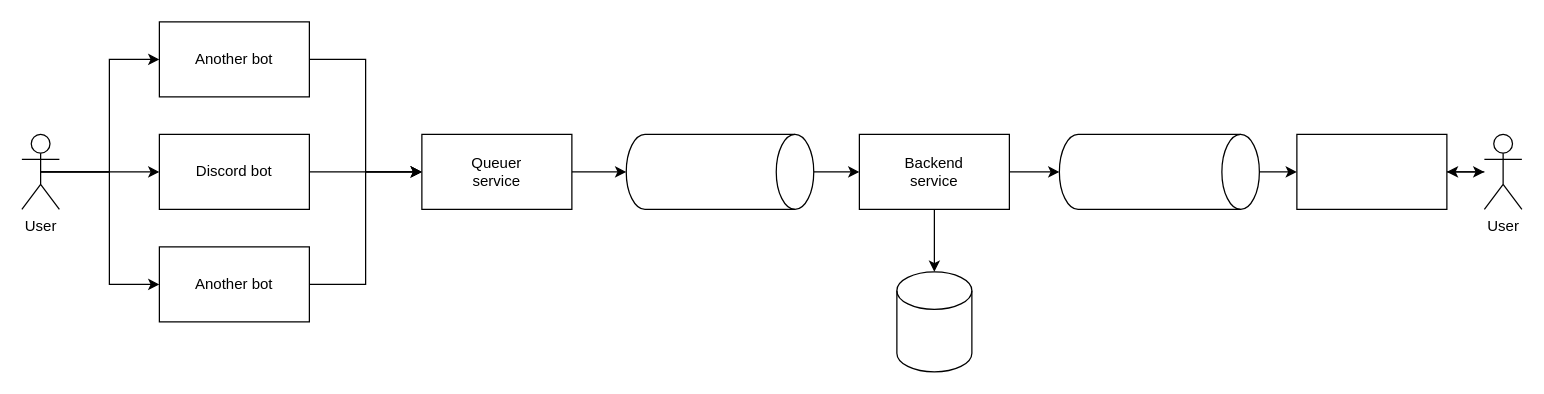
This 1544x394 diagram has some shape labels left out. Each missing label, with the centre of its shape:
Frontend service: point 1371,171
Risk points message queue: point 719,171
Risk points stream processor: point 1158,171
Risks SQL DB: point 934,321
